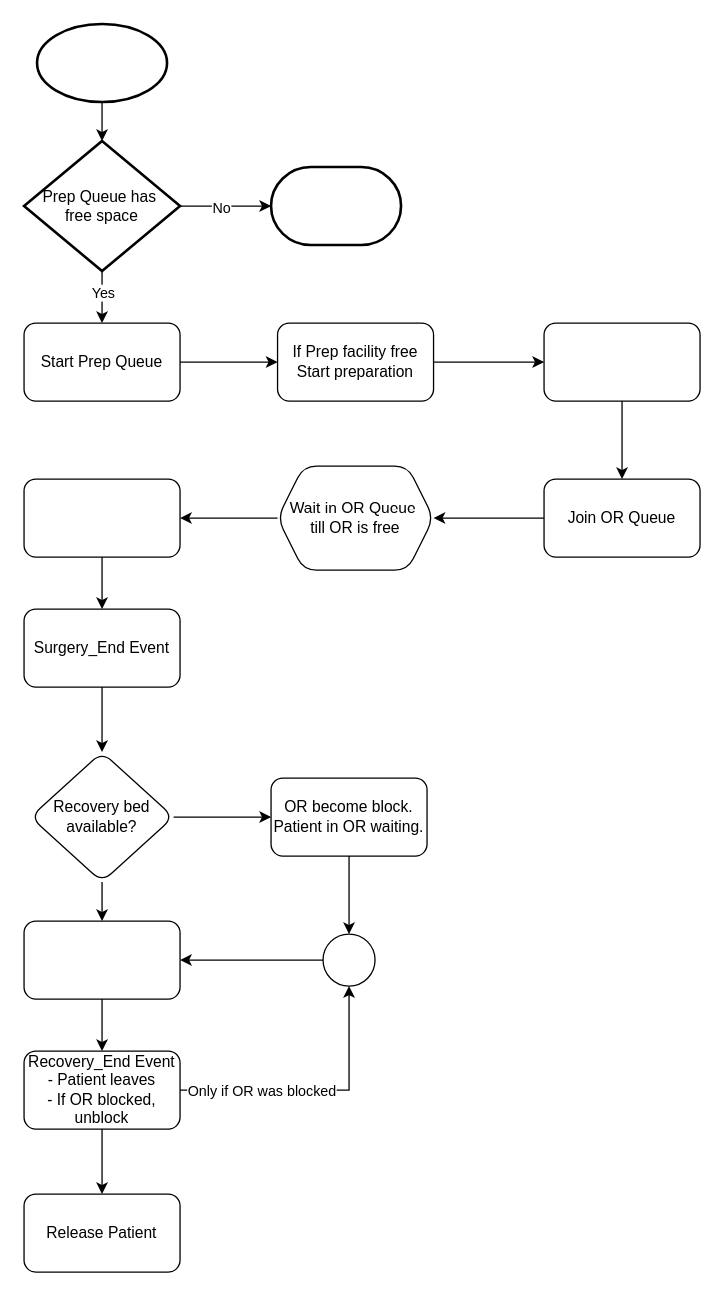
Image size: 723x1295. Some labels were removed from this diagram. The centre of each missing label's shape, as x and y in pixels:
"If OR free, Start OR" goes at point 101,517.
"Patient Arrival" goes at point 101,62.
"Patient leave (Not served)" goes at point 335,205.
"Prep_End Event" goes at point 621,361.
"Start recovery Schedule Recovery_End" goes at point 101,959.
